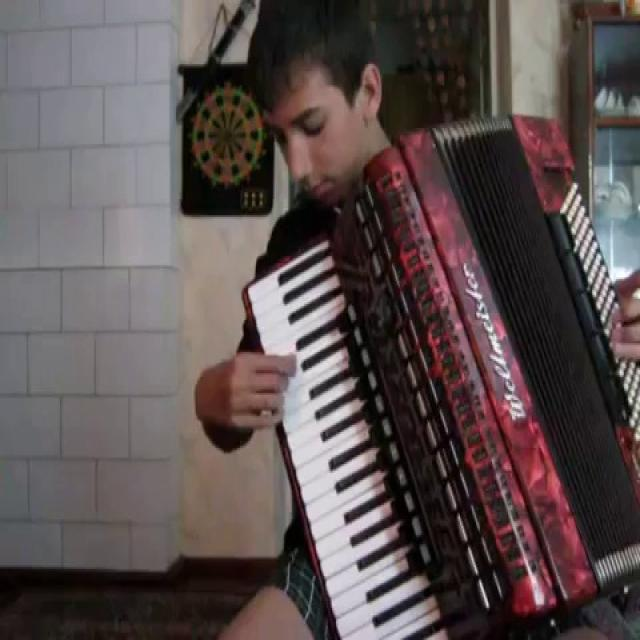Accordion: (232, 93, 640, 639)
